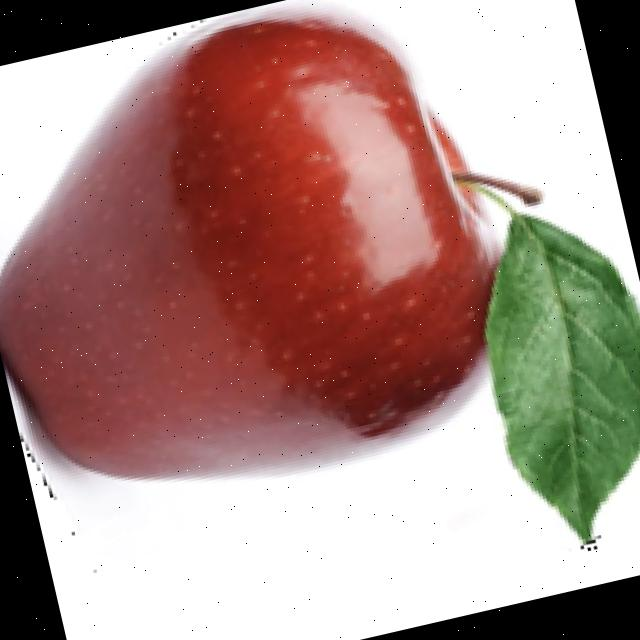apple: (0, 0, 640, 551)
